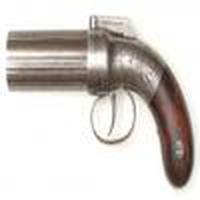gun: (1, 14, 200, 198)
